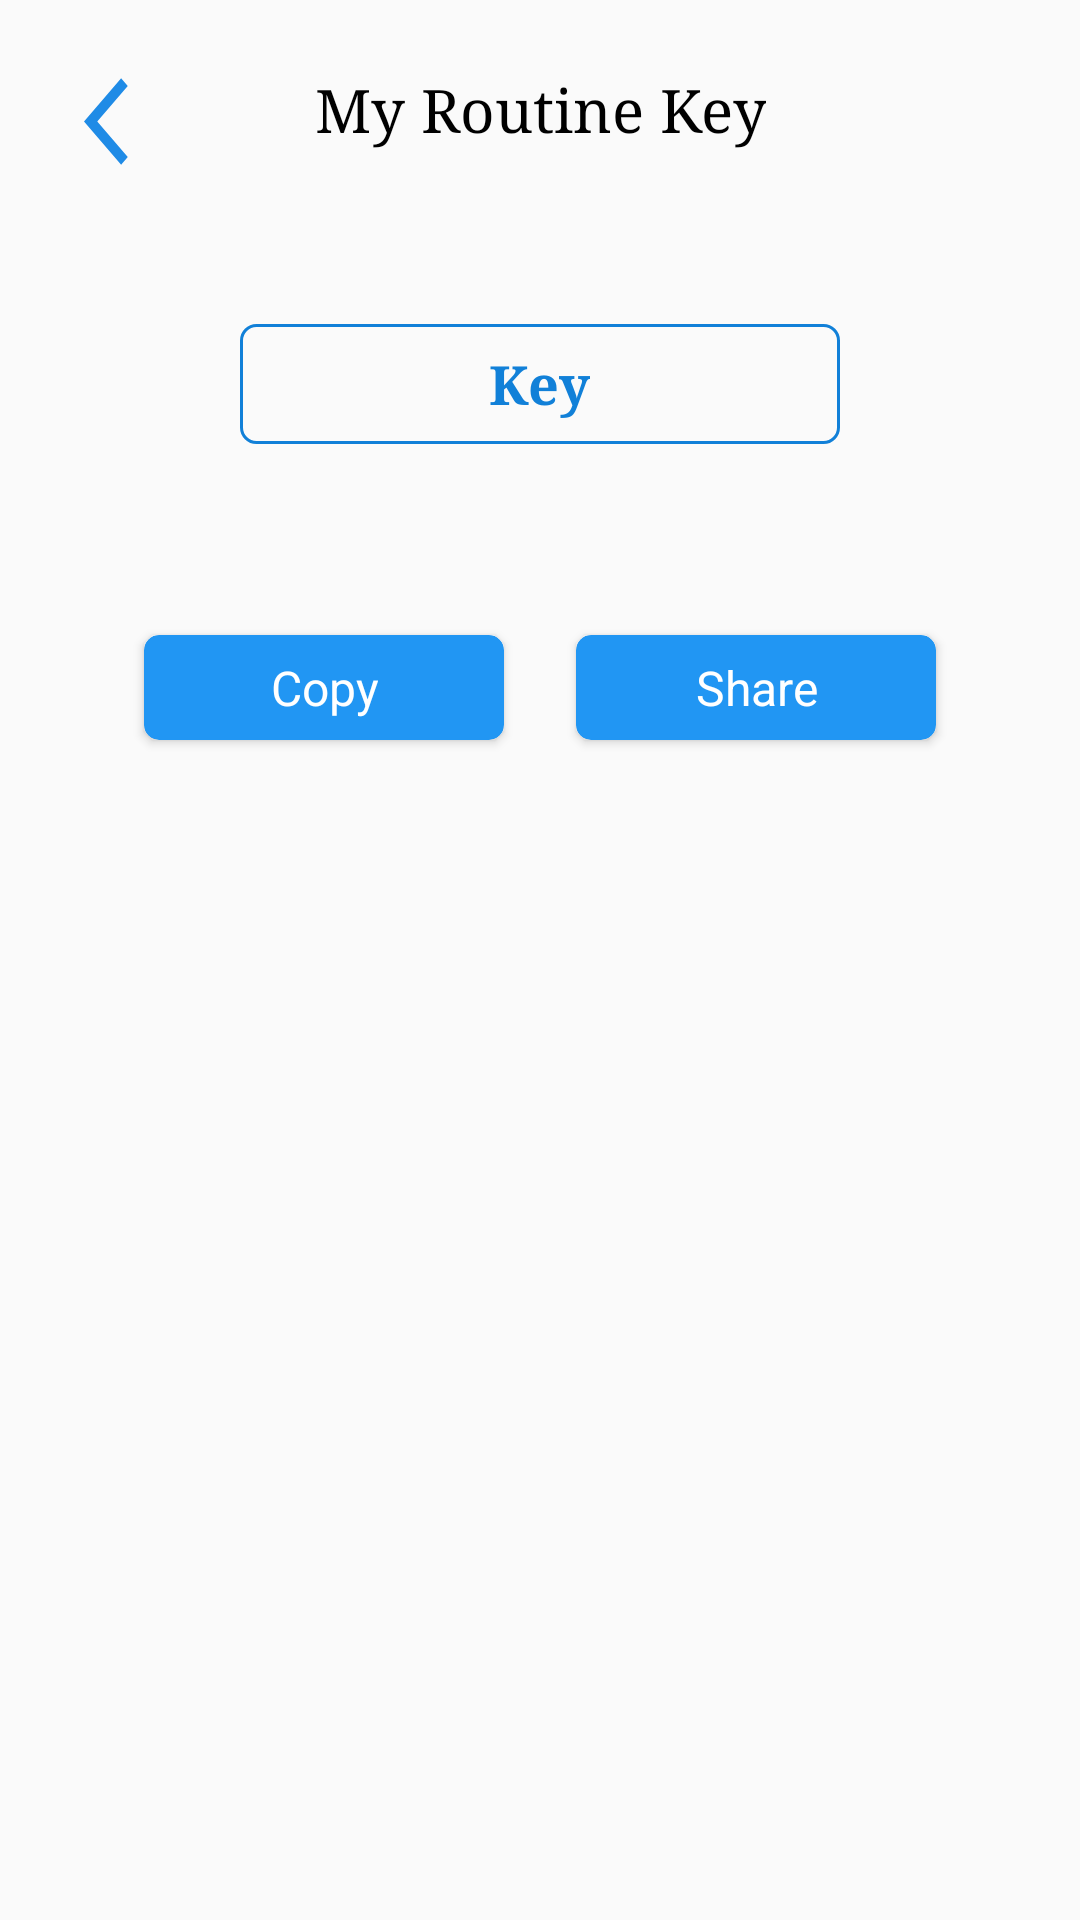

Screen size 1080x1920. Icon name, then its box in pixels as bbox=(x1, y1, x2, y2):
back: bbox=(84, 78, 128, 165)
